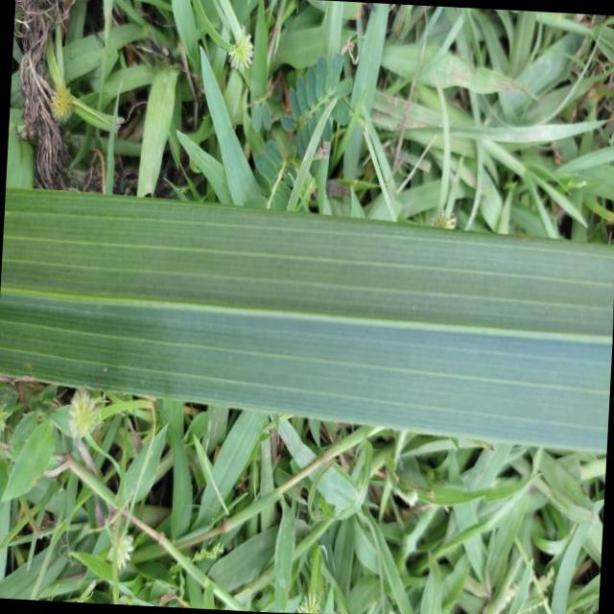Healthy: (1, 190, 614, 450)
